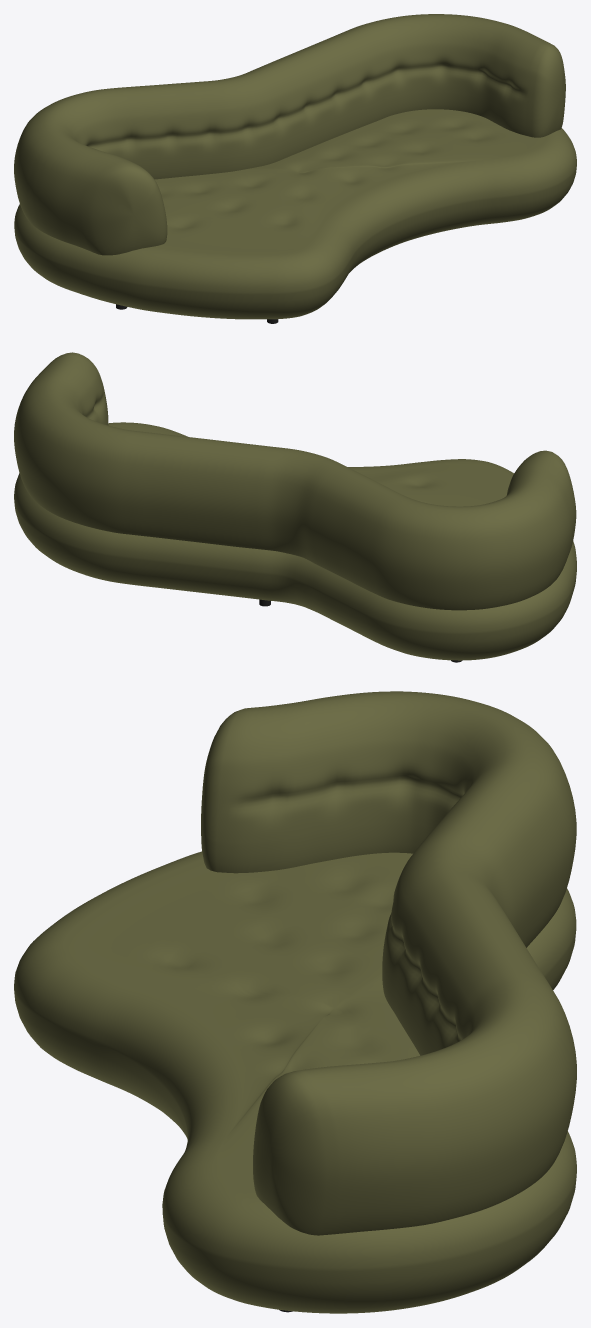
3 renders of one model, top to bottom at view 1: azimuth 30°, elevation 25°; view 2: azimuth 150°, elevation 25°; view 3: azimuth 270°, elevation 25°, orthographic. The views are drawn at different scales.
Visible parts, largest first — view 1: upholstery; view 2: upholstery; view 3: upholstery.
Boxes of the visible parts, x1,y1,x2,y2 form: upholstery: (14, 14, 576, 319); upholstery: (14, 352, 576, 660); upholstery: (14, 691, 576, 1313).
Size of the model in its own units: 2.6 by 0.75 by 1.46.
